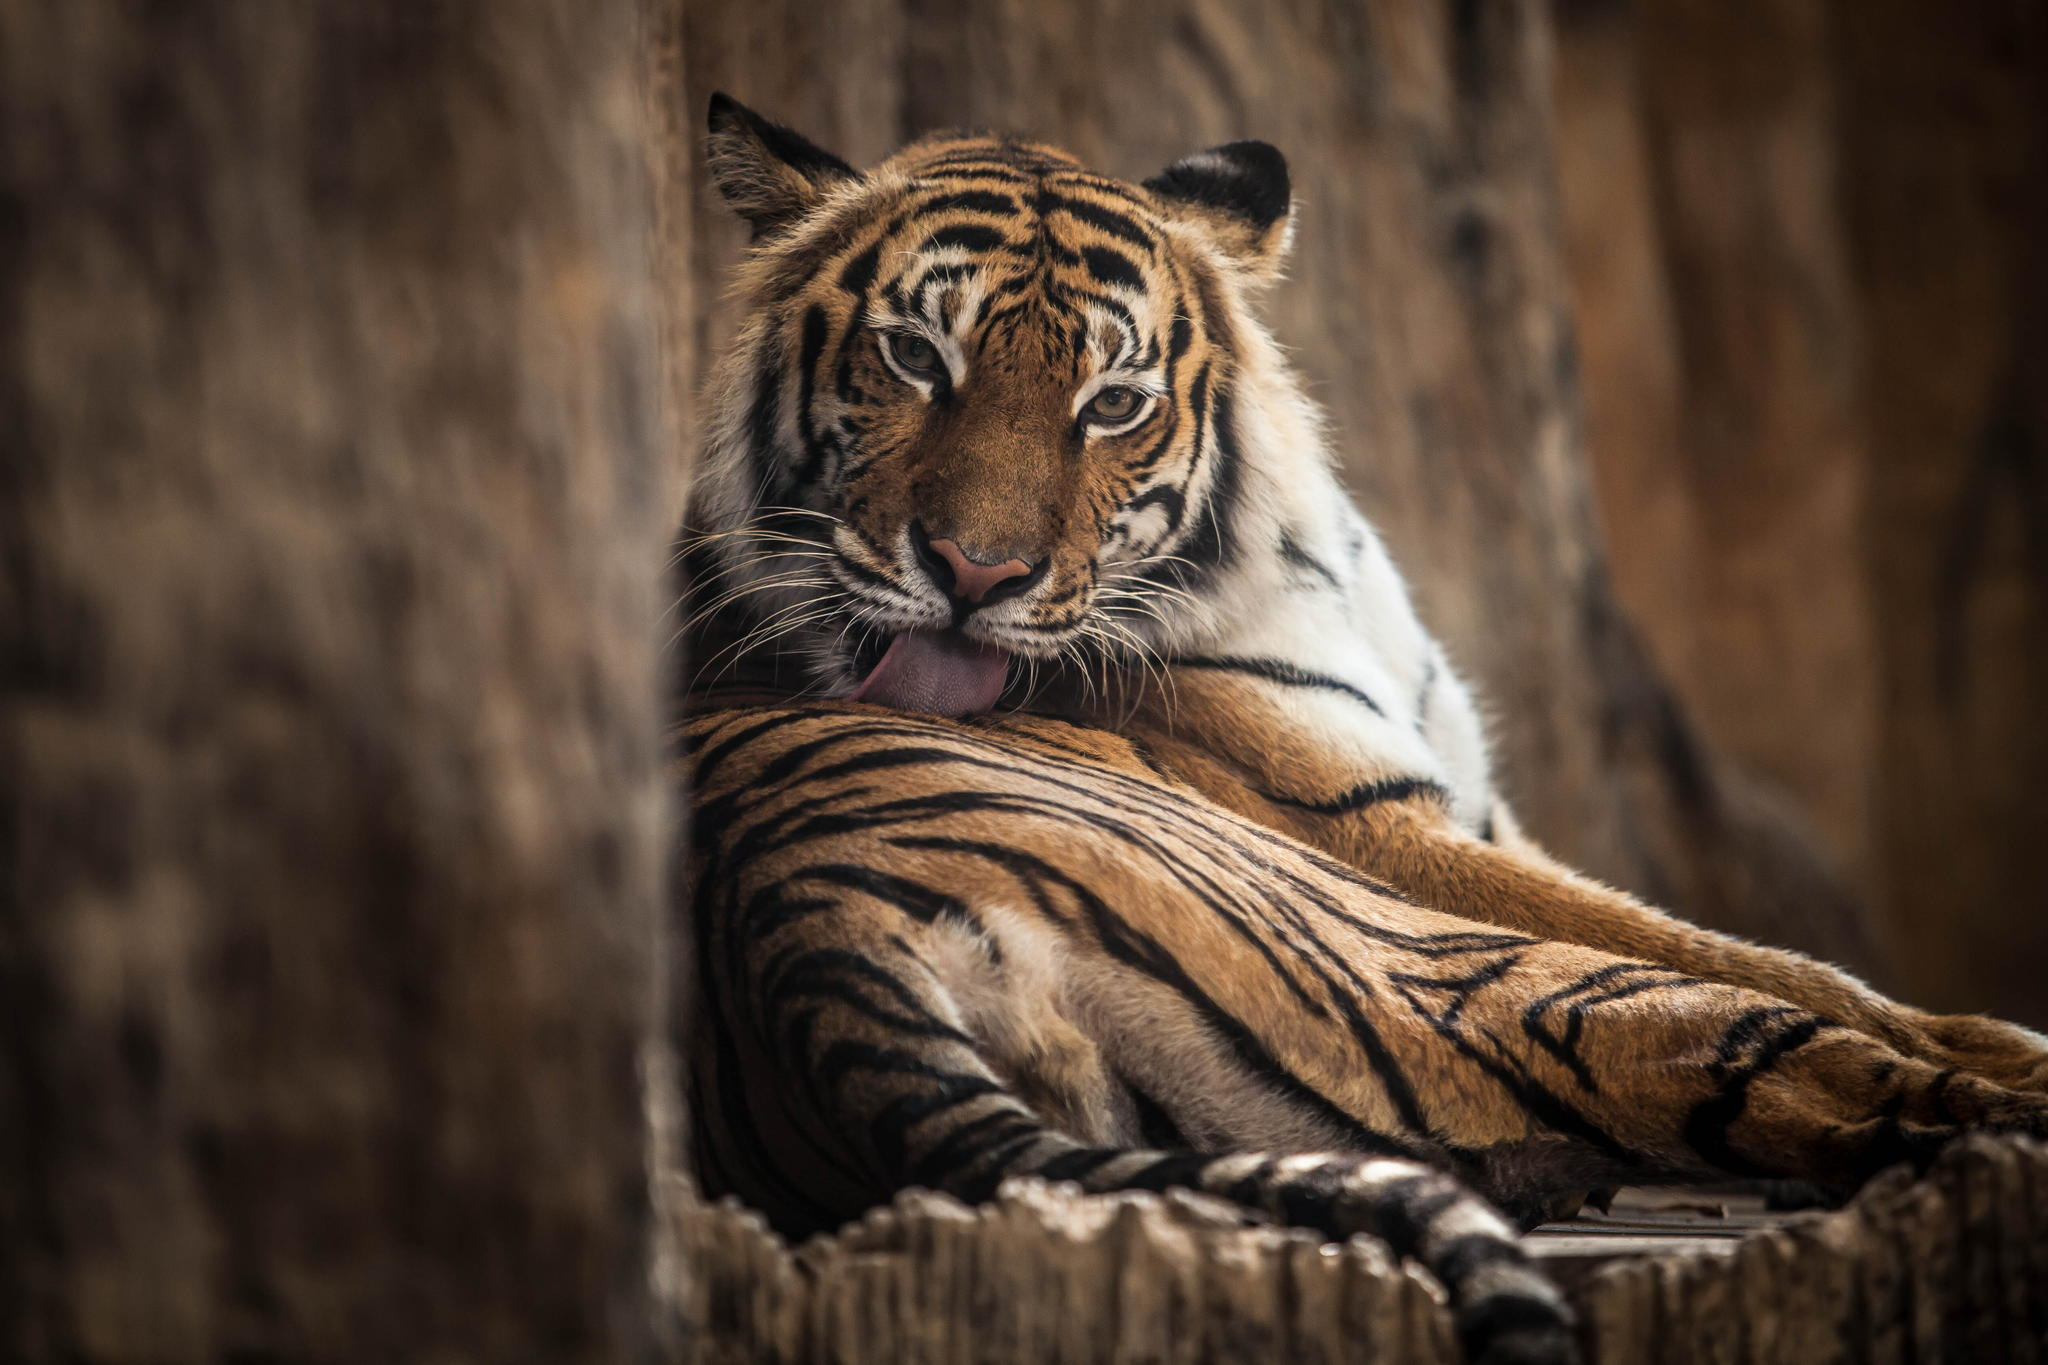tiger: (665, 73, 1951, 1219)
